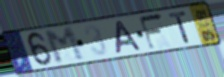3: (84, 24, 108, 58)
6: (26, 30, 54, 69)
A: (115, 19, 144, 56)
F: (138, 11, 166, 52)
M: (42, 25, 88, 66)
T: (167, 10, 192, 45)
